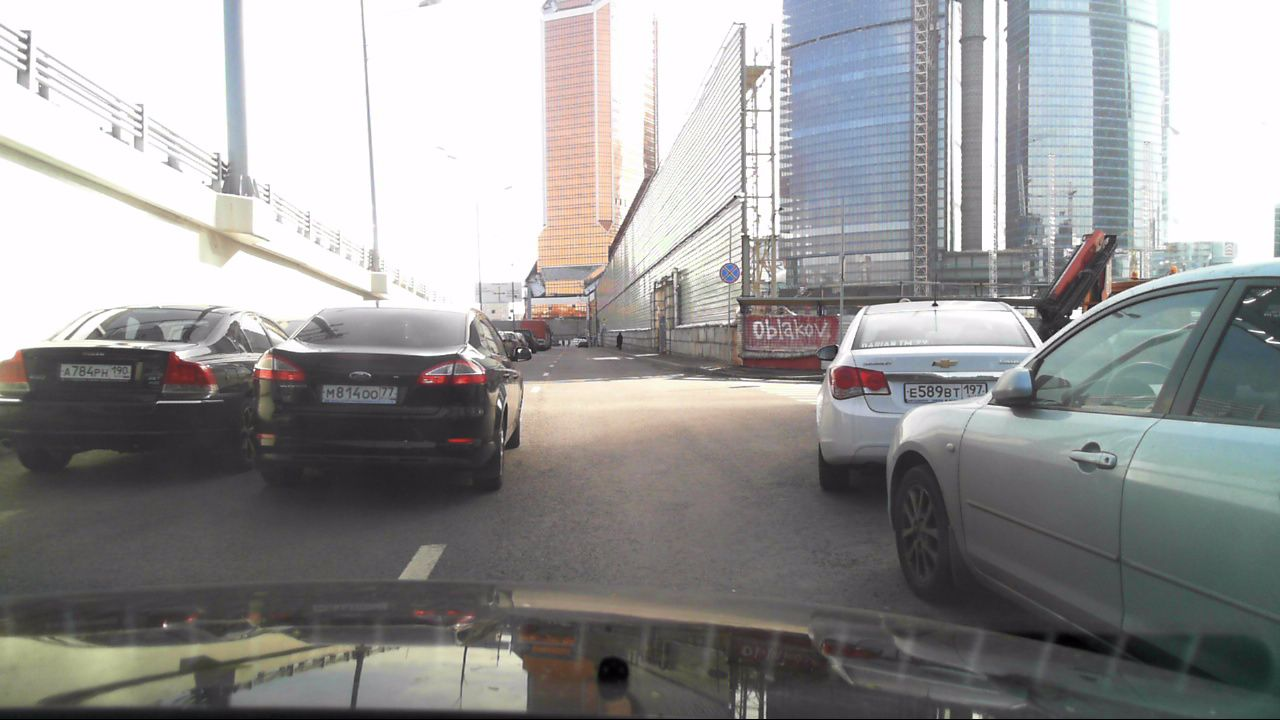No Parking: (716, 258, 741, 284)
